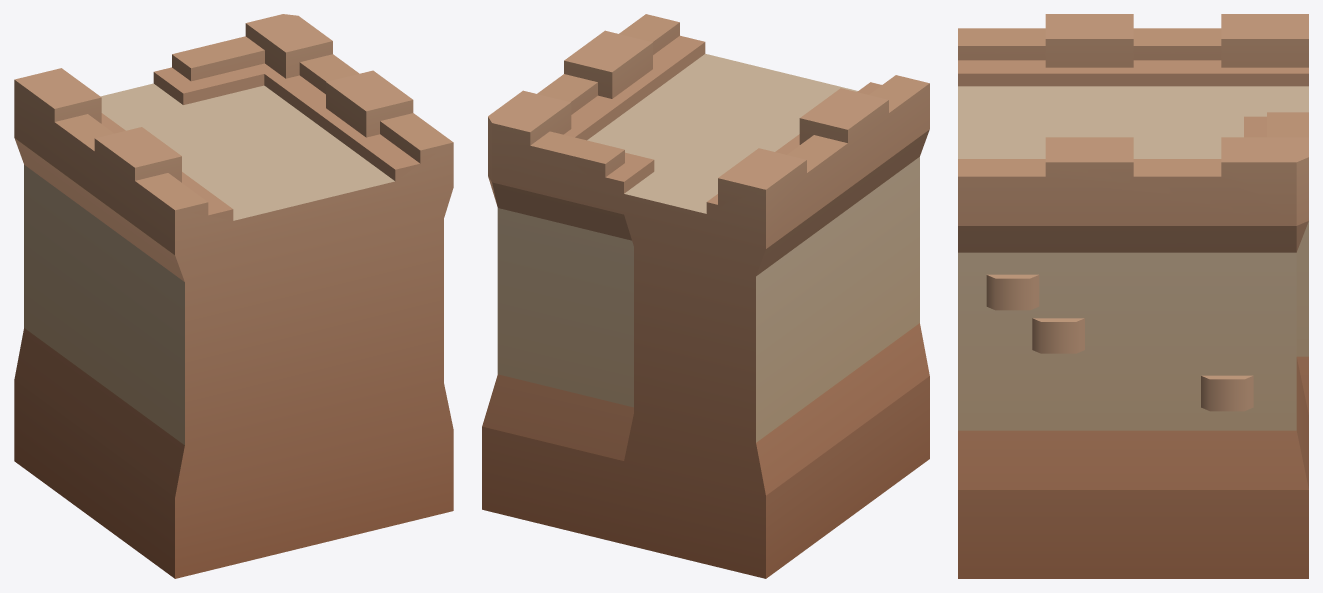
File: wall-to-narrow.glb
The picture shows the model from 3 angles, left to right: view 1: azimuth 30°, elevation 25°; view 2: azimuth 150°, elevation 25°; view 3: azimuth 270°, elevation 25°; orthographic projection. The views are drawn at different scales.
Parts seen in each view (by area): view 1: wall-to-narrow; view 2: wall-to-narrow; view 3: wall-to-narrow.
Boxes of the visible parts, <box> form: wall-to-narrow: <box>14,14,453,578</box>; wall-to-narrow: <box>482,14,929,578</box>; wall-to-narrow: <box>958,14,1308,578</box>.
Size of the model in its own units: 1 by 1.31 by 1.
